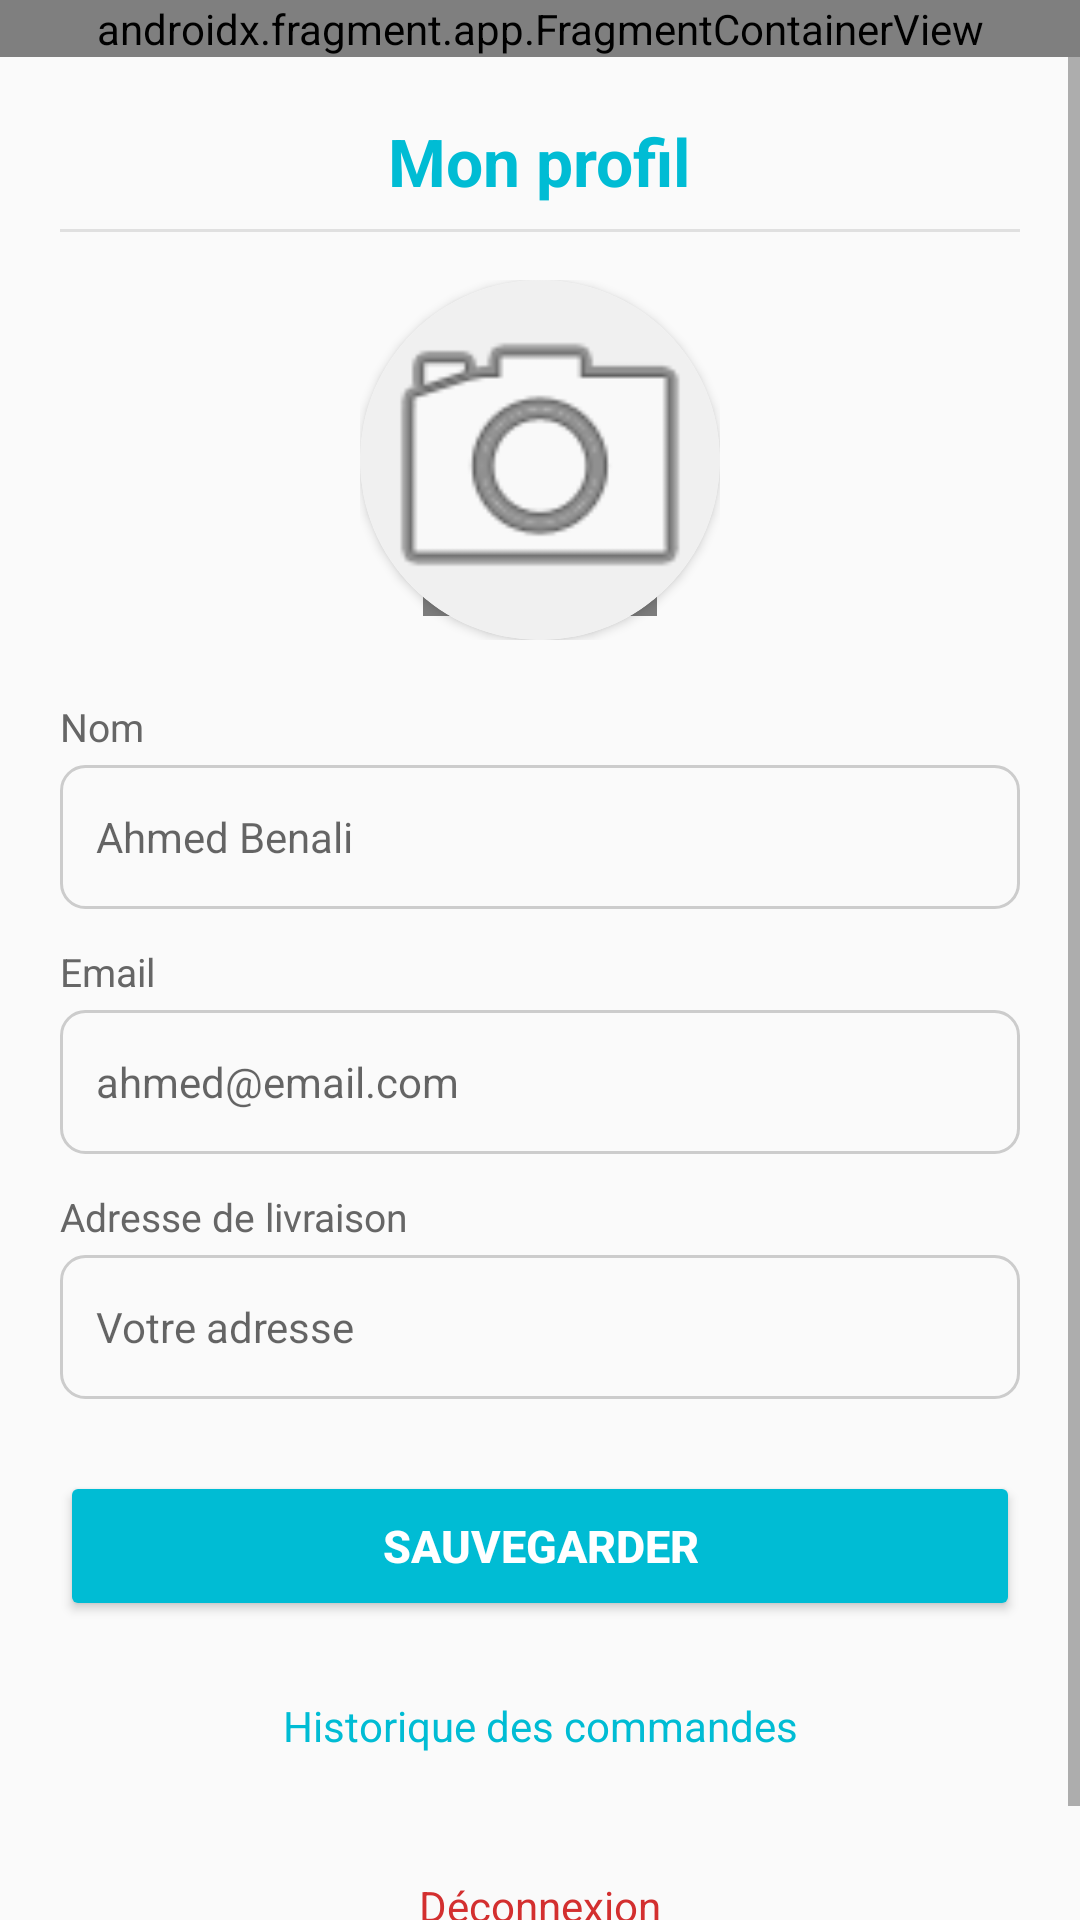

Icons on this 1080w x 1920h Android screen, each with the point to tap as (x,y):
camera: (539,491)
